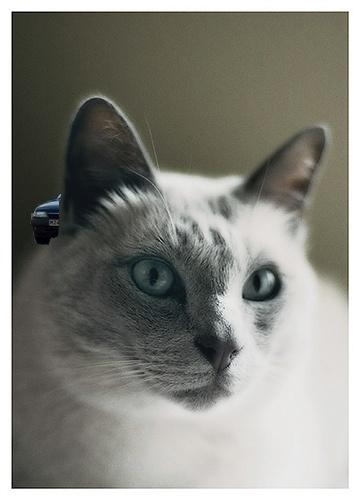tampered: (31, 194, 61, 245)
